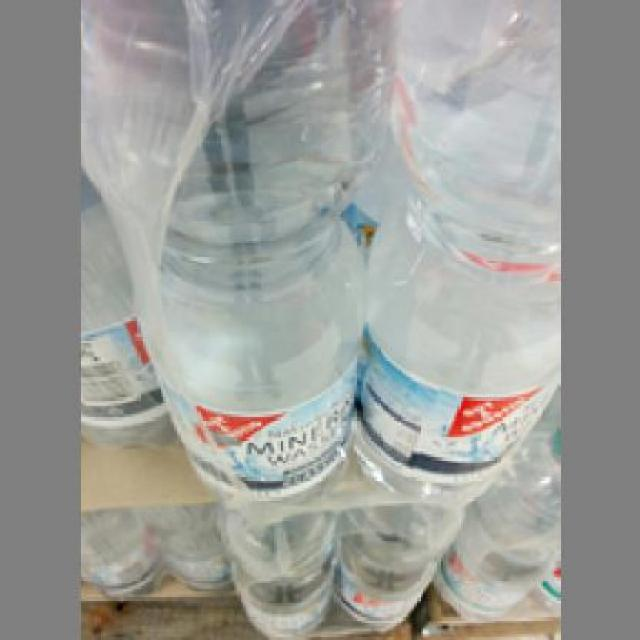Water: (79, 0, 352, 489), (359, 0, 558, 492)
